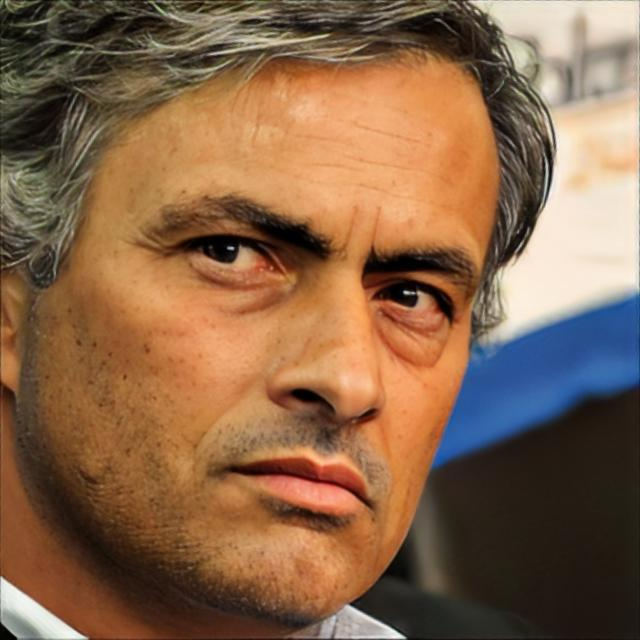anger: (45, 57, 500, 625)
